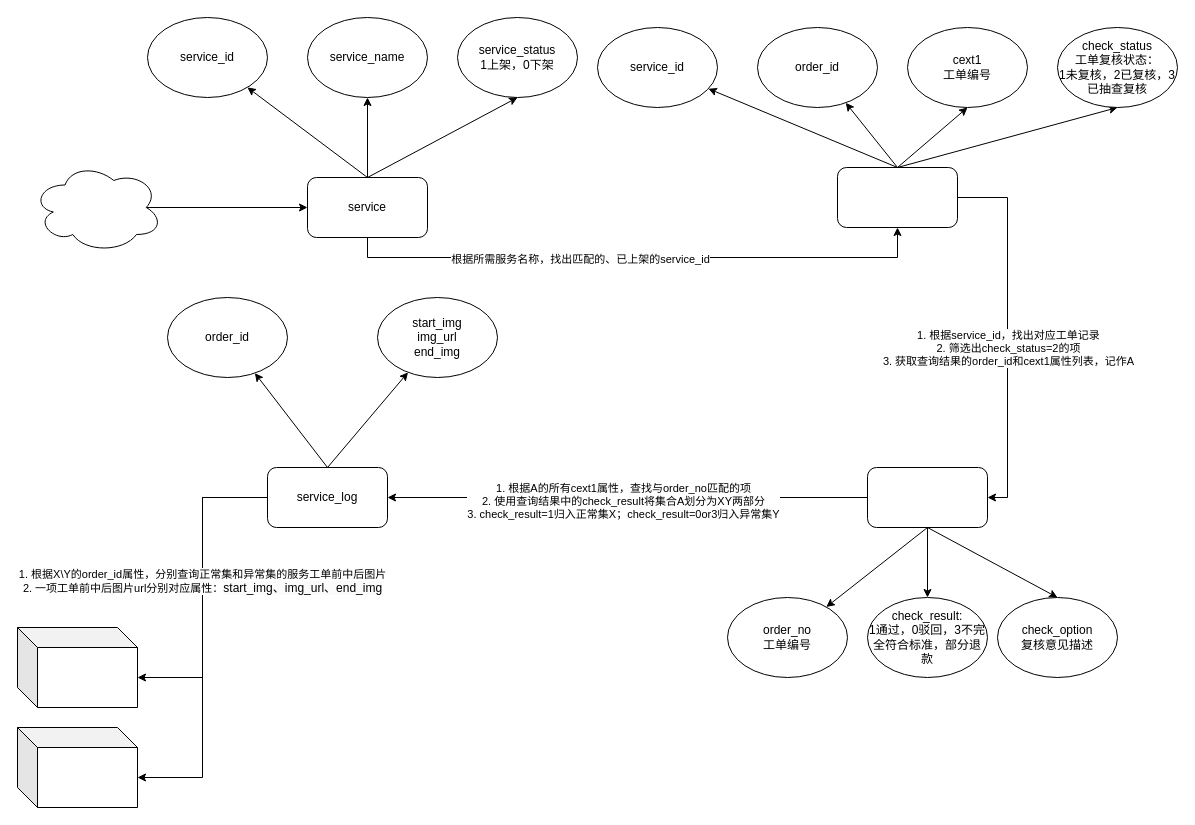
This 1195x825 diagram has some shape labels left out. The shapes that lost their labels are listed below. From the top down, each one's centre as x and y in pixels, then its label:
the point at 97,207: 需要查找的服务名称 如：做正餐
the point at 897,197: work_order
the point at 927,497: work_order_check
the point at 77,667: 正常集图片
the point at 77,767: 异常集图片
